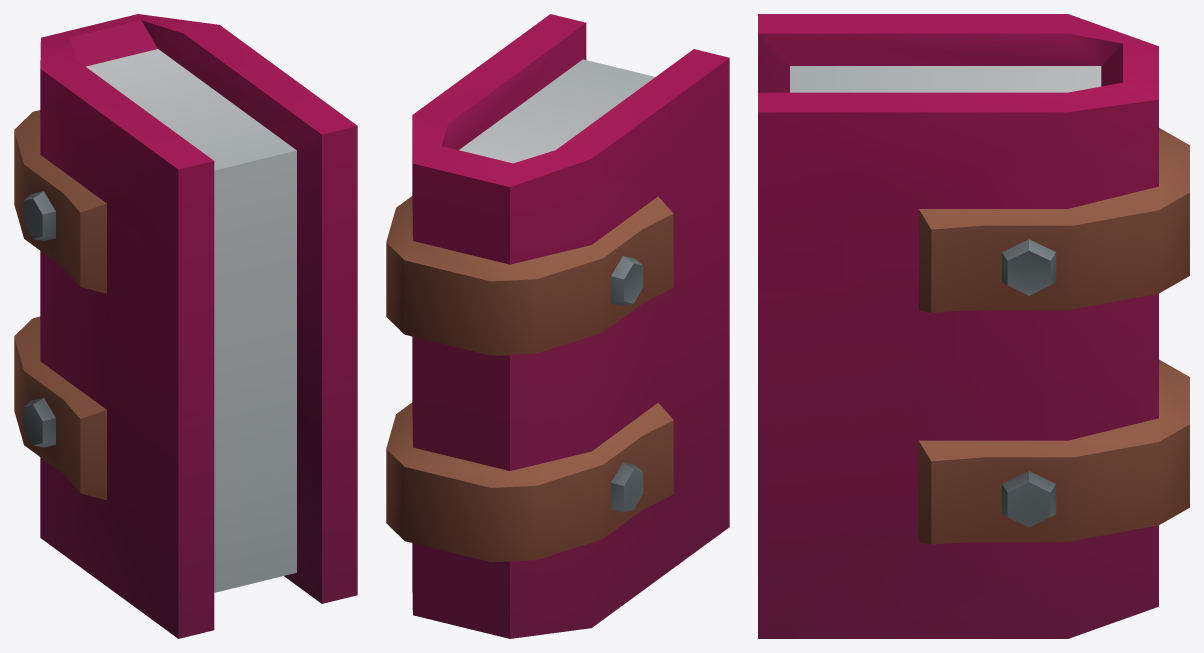
File: gear-spellbook-closed.glb
3 renders of one model, left to right at view 1: azimuth 30°, elevation 25°; view 2: azimuth 150°, elevation 25°; view 3: azimuth 270°, elevation 25°, orthographic. The views are drawn at different scales.
Parts seen in each view (by area): view 1: spellbook_closed; view 2: spellbook_closed; view 3: spellbook_closed.
Part boxes in pixels (x1=…): spellbook_closed: x1=14, y1=14, x2=357, y2=638; spellbook_closed: x1=386, y1=14, x2=729, y2=638; spellbook_closed: x1=758, y1=14, x2=1189, y2=638.
Size of the model in its own units: 0.293 by 0.575 by 0.4271.
